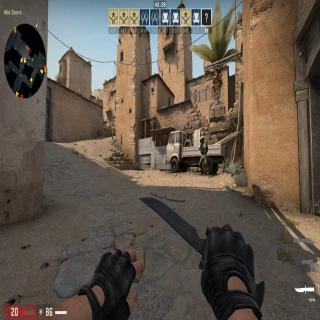CT-Body: (198, 136, 211, 178)
CT-Head: (200, 136, 204, 143)
